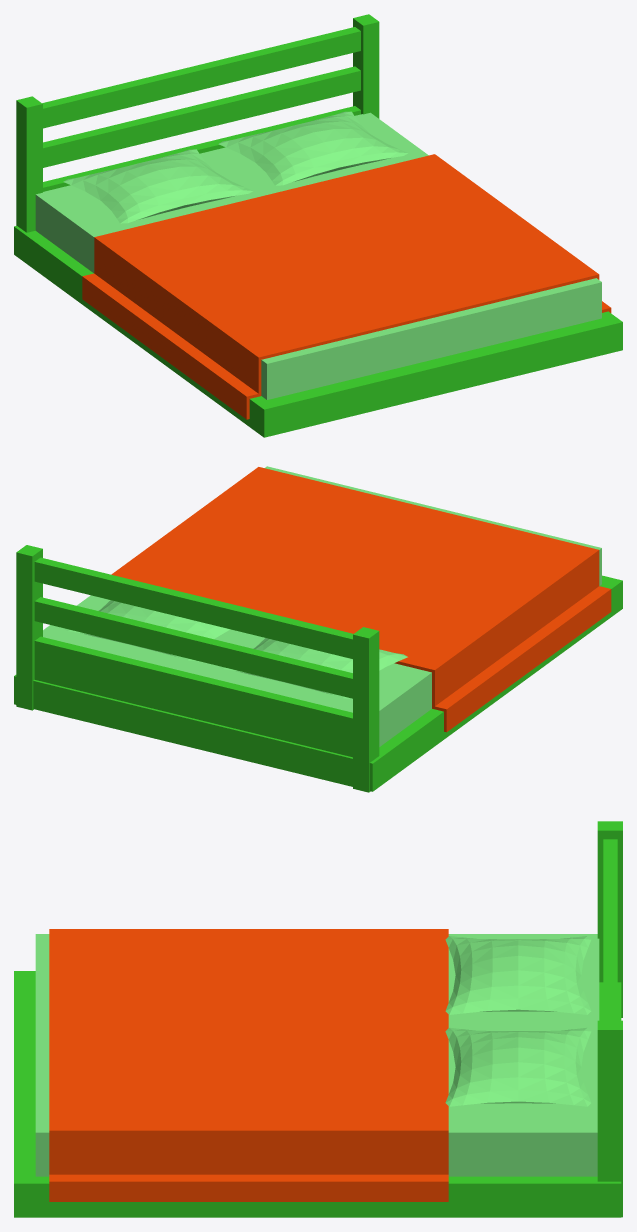
The model's file is Bed_02.fbx.
The picture shows the model from 3 angles, top to bottom: view 1: azimuth 30°, elevation 25°; view 2: azimuth 150°, elevation 25°; view 3: azimuth 270°, elevation 25°; orthographic projection. The views are drawn at different scales.
Parts seen in each view (by area): view 1: Bed_02; view 2: Bed_02; view 3: Bed_02.
Boxes of the visible parts, <box> form: Bed_02: <box>14,14,622,437</box>; Bed_02: <box>14,466,622,792</box>; Bed_02: <box>14,821,622,1217</box>.
Size of the model in its own units: 203 by 82.02 by 242.
